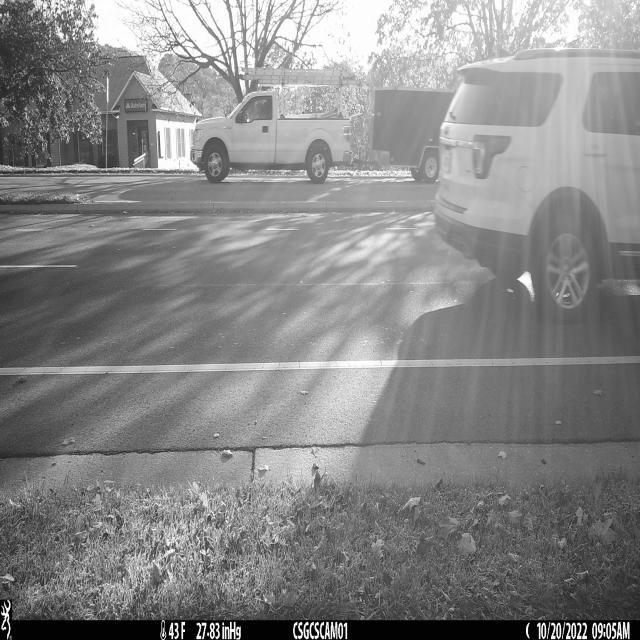Pickup: (191, 68, 361, 184)
Trailer: (354, 89, 454, 179)
